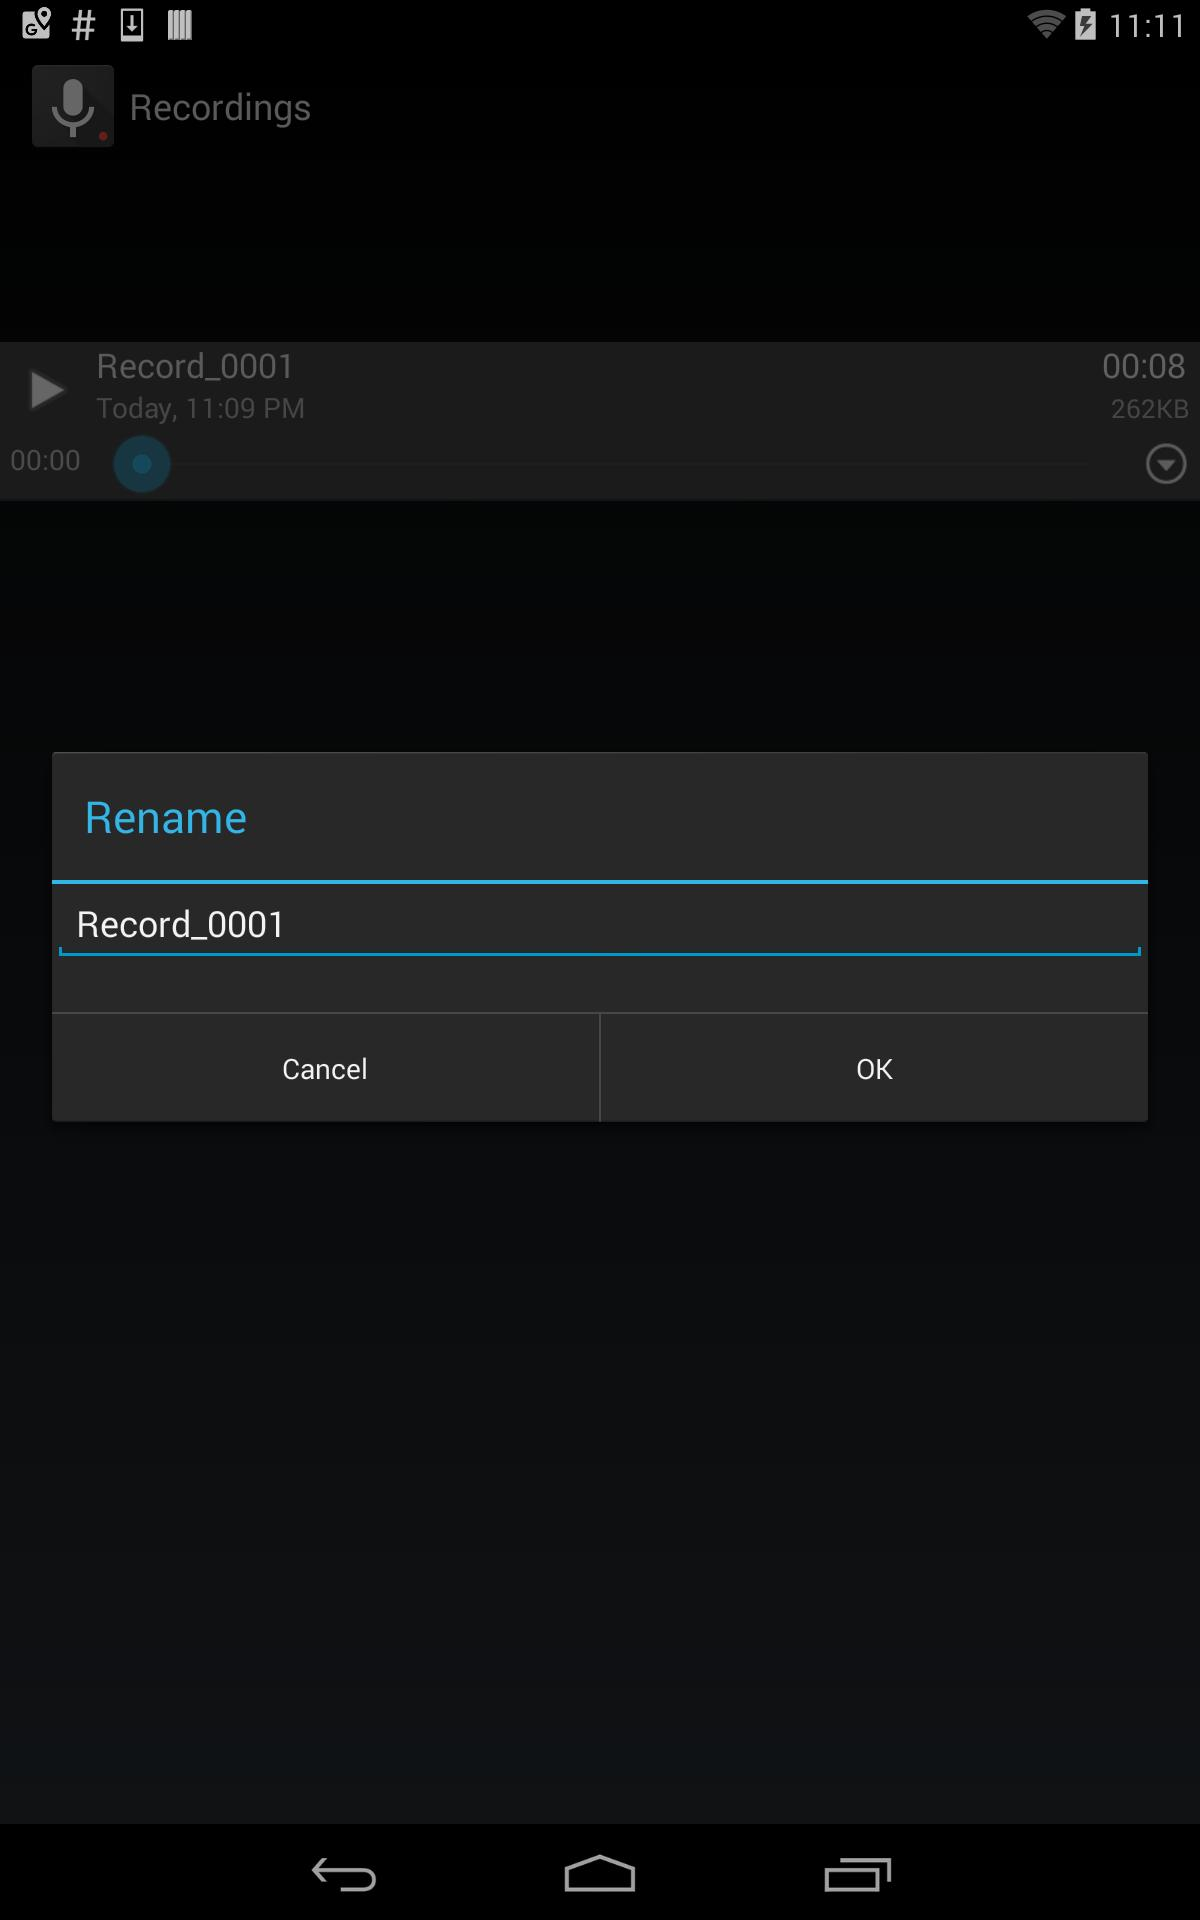android.view.View: (53, 881, 1147, 885)
android.widget.Button: (53, 1015, 599, 1122), (601, 1015, 1147, 1122)
android.widget.EditText: (53, 885, 1147, 963)
android.widget.FrameLayout: (19, 735, 1181, 1138), (36, 885, 1164, 1012), (53, 885, 1147, 963)
android.widget.LinearLayout: (36, 735, 1164, 1138), (36, 735, 1164, 885), (36, 1012, 1164, 1138), (84, 752, 1116, 881), (53, 1015, 1147, 1122)
android.widget.TextView: (84, 787, 1116, 845)
